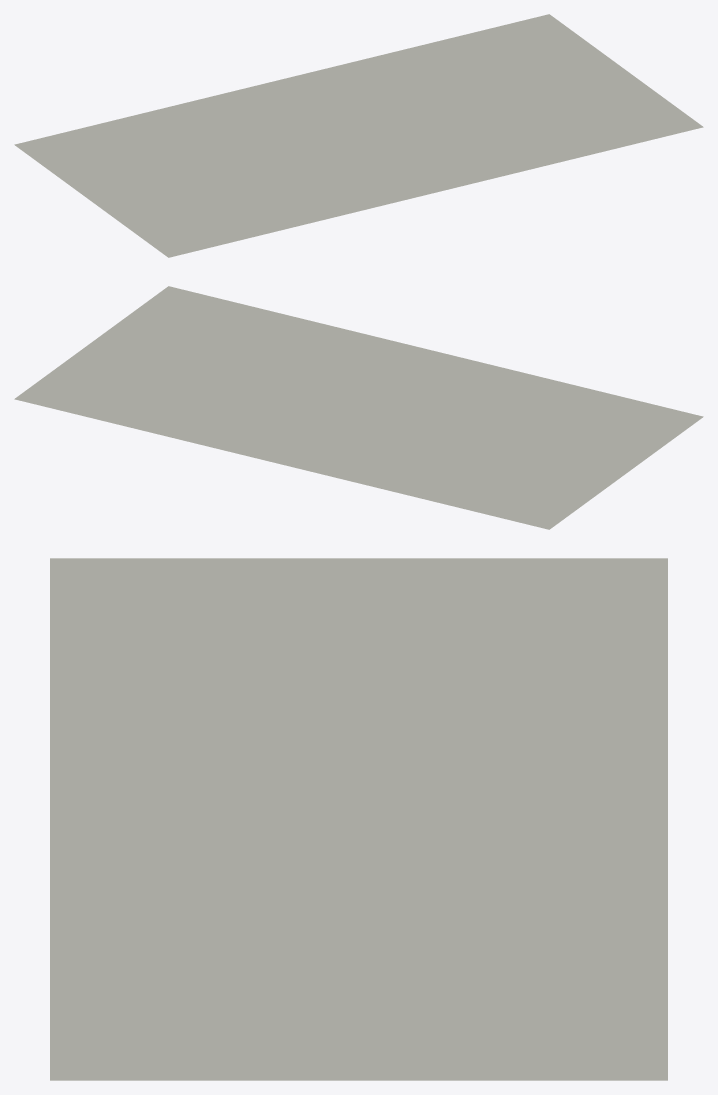
3 views of the same model, one above another, from view 1: azimuth 30°, elevation 25°; view 2: azimuth 150°, elevation 25°; view 3: azimuth 270°, elevation 25° (orthographic). The views are drawn at different scales.
Size of the model in its own units: 1 by 0 by 0.5.
Materials: 1 (1 with a texture image).
